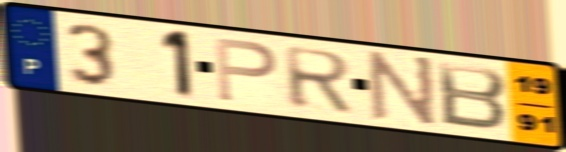1: (158, 29, 196, 103)
3: (63, 22, 118, 88)
B: (434, 59, 510, 133)
N: (367, 49, 438, 131)
P: (212, 34, 281, 104)
R: (280, 44, 356, 115)
